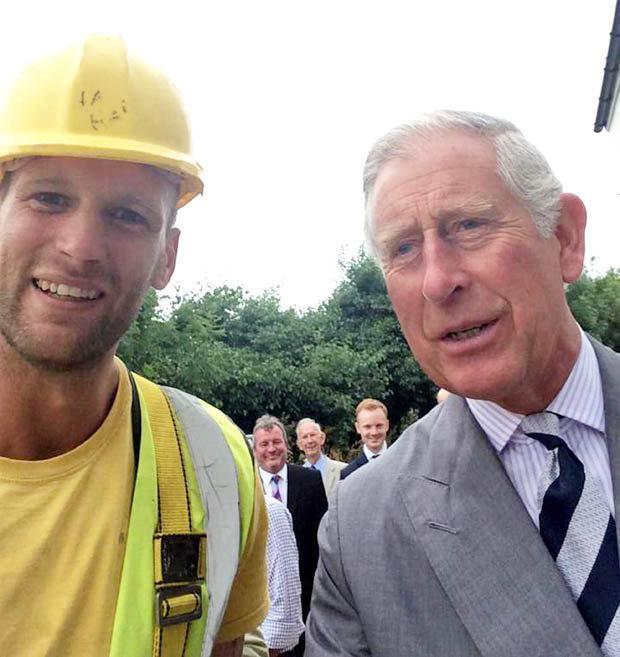helmet: (0, 29, 207, 198)
